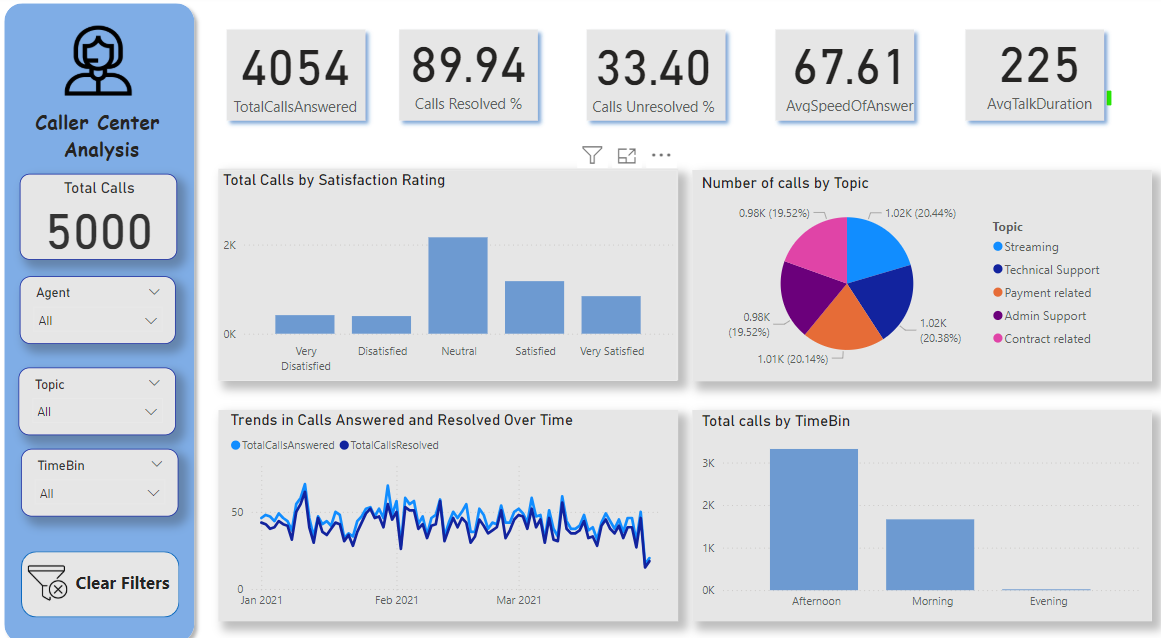

Layout of this report page (visuals, bound fields, positions):
{"tool":"powerbi","page":{"name":"Page 1","canvas":[1280,720],"ordinal":0},"visuals":[{"type":"shape","box":[0,0,226.6,719.8],"z":0},{"type":"image","box":[65.6,28.5,92.7,86.9],"z":1000},{"type":"shape","box":[244.3,28.8,170.2,118],"z":2000},{"type":"card","fields":{"Values":["measure_.TotalCallsAnswered"]},"box":[223.7,28.8,209.9,109.8],"z":3000},{"type":"card","title":"Total Calls","fields":{"Values":["CountNonNull(Callcenter.Answered (Y/N))"]},"box":[26.1,196.2,172.9,94.7],"z":4000},{"type":"slicer","fields":{"Values":["Callcenter.Agent"]},"box":[26.1,308.7,171.5,74.1],"z":5000},{"type":"shape","box":[243.7,191,504.6,232.3],"z":6000},{"type":"shape","box":[764,192.4,504.6,232.3],"z":7000},{"type":"shape","box":[243.7,456.1,504.6,232.3],"z":8000},{"type":"shape","box":[764,456.1,504.6,232.3],"z":9000},{"type":"clusteredColumnChart","title":"Total Calls by Satisfaction Rating","fields":{"Y":["measures_.total calls"],"Category":["Callcenter.SatisfactionCategory"]},"box":[243.7,192.4,504.6,230.9],"z":10000},{"type":"lineChart","title":"Trends in Calls Answered and Resolved Over Time","fields":{"Y":["measures_.TotalCallsAnswered","measures_.TotalCallsResolved"],"Category":["Callcenter.Date.Variation.Date Hierarchy.Year","Callcenter.Date.Variation.Date Hierarchy.Quarter","Callcenter.Date.Variation.Date Hierarchy.Month","Callcenter.Date.Variation.Date Hierarchy.Day"]},"box":[252.3,456.1,496,226.6],"z":11000},{"type":"pieChart","title":"Number of calls by Topic","fields":{"Category":["Callcenter.Topic"],"Y":["CountNonNull(Callcenter.Call Id)"]},"box":[769.7,196.7,456.1,222.4],"z":12000},{"type":"clusteredColumnChart","title":"Total calls by TimeBin","fields":{"Y":["measures_.total calls"],"Category":["Callcenter.TimeBin"]},"box":[769.7,457.6,493.2,226.6],"z":13000},{"type":"shape","box":[27.1,610.1,173.9,72.7],"z":14000},{"type":"textbox","box":[82.7,627.2,149.7,37.1],"z":15000},{"type":"image","box":[29.9,617.2,52.7,55.6],"z":16000},{"type":"textbox","box":[0,119.4,231.9,71.4],"z":17000},{"type":"shape","box":[433.6,28.8,170.2,118],"z":18000},{"type":"shape","box":[639.5,28.8,170.2,118],"z":19000},{"type":"shape","box":[846.7,28.8,170.2,118],"z":20000},{"type":"shape","box":[1055.2,28.8,170.2,118],"z":21000},{"type":"card","fields":{"Values":["measures_.ResolvedPercentage"]},"box":[428.1,28.8,181.1,102.9],"z":22000},{"type":"card","fields":{"Values":["measures_.AvgSpeedOfAnswer"]},"box":[846.7,31.6,181.1,102.9],"z":23000},{"type":"card","fields":{"Values":["measures_.AvgTalkDuration"]},"box":[1055.2,28.8,181.1,102.9],"z":24000},{"type":"card","fields":{"Values":["measures_.UnresolvedCallPercentage"]},"box":[634,31.6,175.6,104.3],"z":25000},{"type":"slicer","fields":{"Values":["Callcenter.Topic"]},"box":[24.7,408.9,172.9,74.1],"z":26000},{"type":"slicer","fields":{"Values":["Callcenter.TimeBin"]},"box":[27.4,498.1,172.9,74.1],"z":26001}]}

Visuals, with their boxes in screenshot pixels (x1, y1, x2, y2), scaled from the page's 1280x720 canvas onto the 1161x638 screenshot:
shape: bbox(0, 0, 206, 637)
image: bbox(60, 25, 144, 102)
shape: bbox(222, 26, 376, 130)
card - measure_.TotalCallsAnswered: bbox(203, 26, 393, 123)
"Total Calls" card: bbox(24, 174, 180, 258)
slicer - Callcenter.Agent: bbox(24, 274, 179, 339)
shape: bbox(221, 169, 679, 375)
shape: bbox(693, 170, 1151, 376)
shape: bbox(221, 404, 679, 610)
shape: bbox(693, 404, 1151, 610)
"Total Calls by Satisfaction Rating" clusteredColumnChart: bbox(221, 170, 679, 375)
"Trends in Calls Answered and Resolved Over Time" lineChart: bbox(229, 404, 679, 605)
"Number of calls by Topic" pieChart: bbox(698, 174, 1112, 371)
"Total calls by TimeBin" clusteredColumnChart: bbox(698, 405, 1145, 606)
shape: bbox(25, 541, 182, 605)
textbox: bbox(75, 556, 211, 589)
image: bbox(27, 547, 75, 596)
textbox: bbox(0, 106, 210, 169)
shape: bbox(393, 26, 548, 130)
shape: bbox(580, 26, 734, 130)
shape: bbox(768, 26, 922, 130)
shape: bbox(957, 26, 1111, 130)
card - measures_.ResolvedPercentage: bbox(388, 26, 553, 117)
card - measures_.AvgSpeedOfAnswer: bbox(768, 28, 932, 119)
card - measures_.AvgTalkDuration: bbox(957, 26, 1121, 117)
card - measures_.UnresolvedCallPercentage: bbox(575, 28, 734, 120)
slicer - Callcenter.Topic: bbox(22, 362, 179, 428)
slicer - Callcenter.TimeBin: bbox(25, 441, 182, 507)
